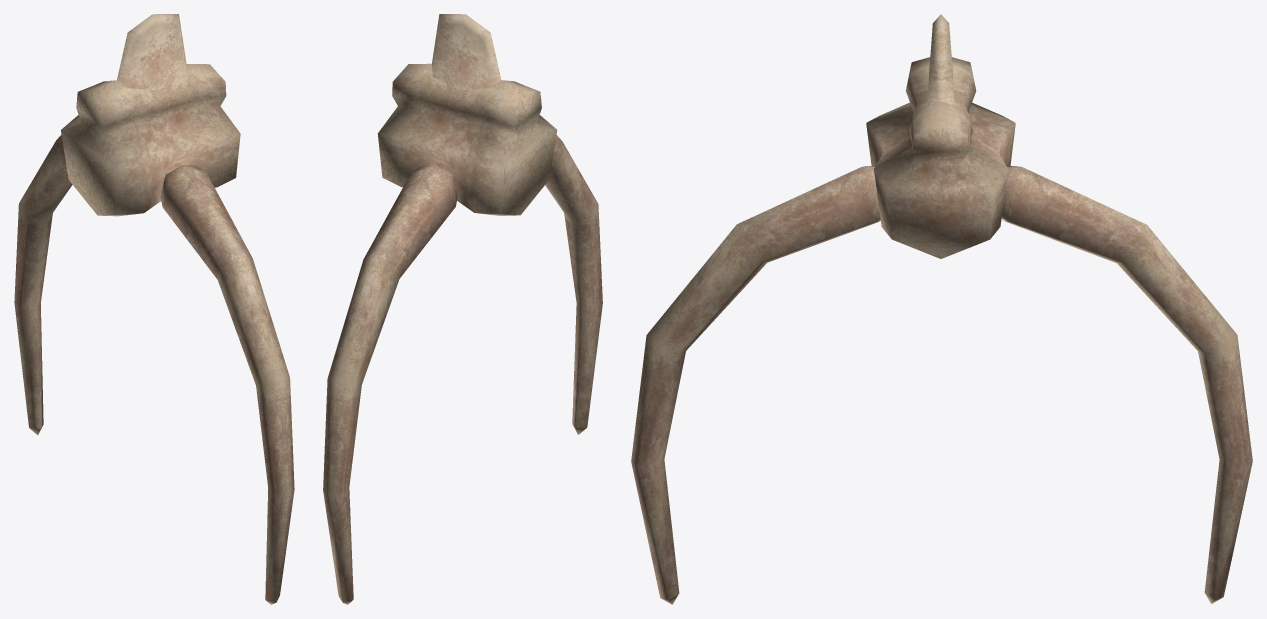
File: OZ_06_hd_born01I.glb
3 renders of one model, left to right at view 1: azimuth 30°, elevation 25°; view 2: azimuth 150°, elevation 25°; view 3: azimuth 270°, elevation 25°, orthographic. The views are drawn at different scales.
Parts seen in each view (by area): view 1: OM_06_hd_born01I; view 2: OM_06_hd_born01I; view 3: OM_06_hd_born01I.
Boxes of the visible parts, x1,y1,x2,y2 form: OM_06_hd_born01I: [14, 14, 294, 604]; OM_06_hd_born01I: [323, 14, 602, 604]; OM_06_hd_born01I: [631, 14, 1252, 604].
Size of the model in its own units: 1.91 by 7.15 by 6.84.
Materials: 1 (1 with a texture image).
